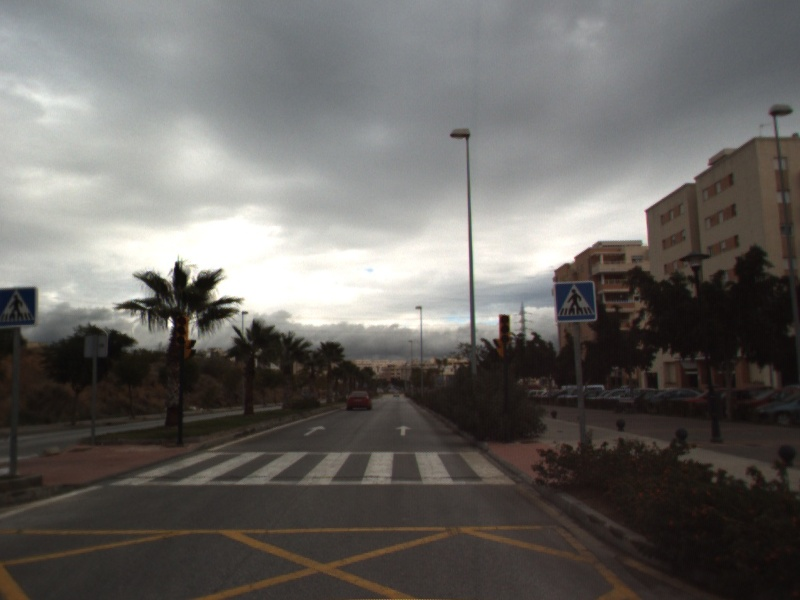STRAIGHT: (302, 423, 328, 438), (394, 423, 414, 437)
